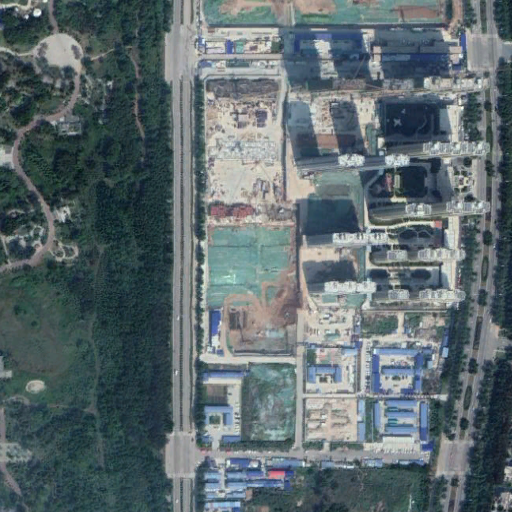cw: (205, 224, 298, 355), (205, 3, 451, 28), (243, 365, 297, 443), (307, 168, 361, 229)
